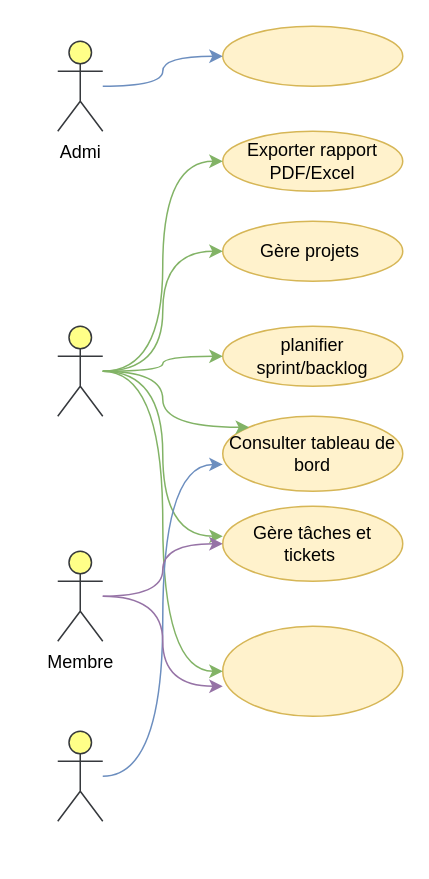
The diagram is 429 pixels wide and 879 high, and some of its shapes have lost their labels. Each missing label, with the centre of its shape:
"chef de projet" belongs at (x=79, y=370).
"Gérer utilisateurs &roles" belongs at (x=312, y=55).
"Observateur" belongs at (x=79, y=775).
"Visualiser tableau kanban" belongs at (x=312, y=670).
